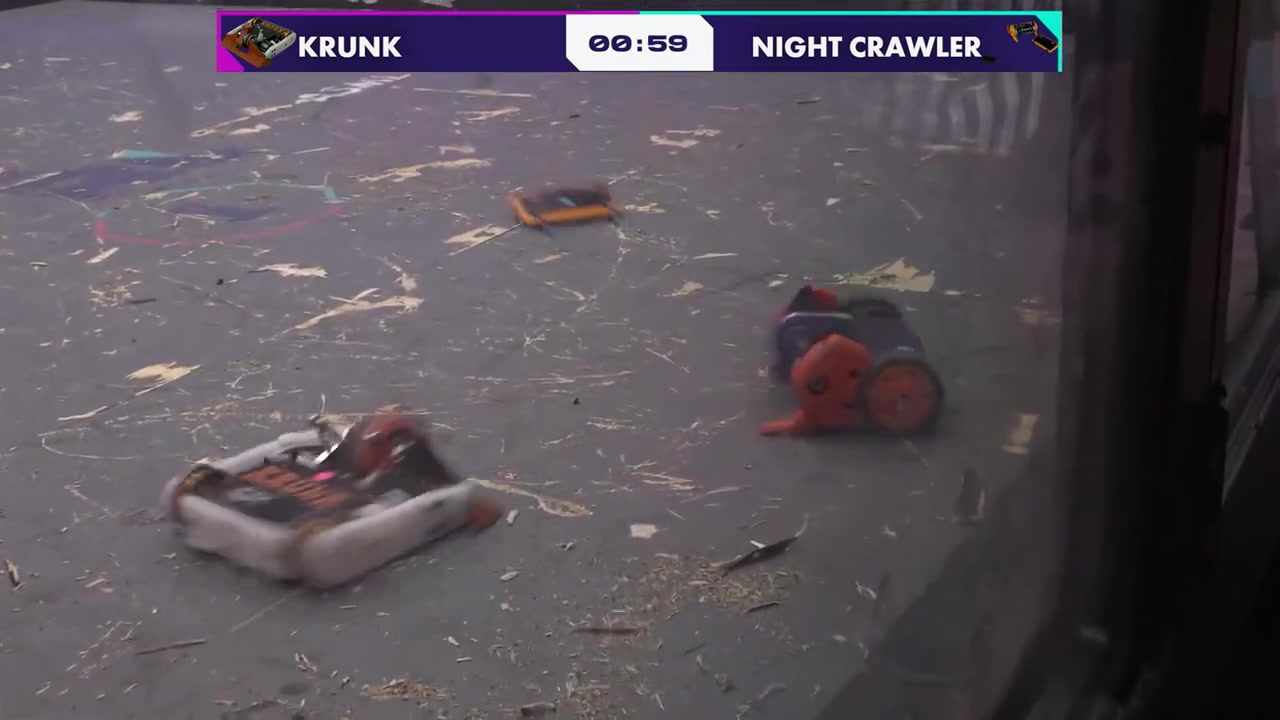combatbot: (171, 426, 476, 591), (779, 296, 938, 432)
minibot: (507, 184, 609, 224)
